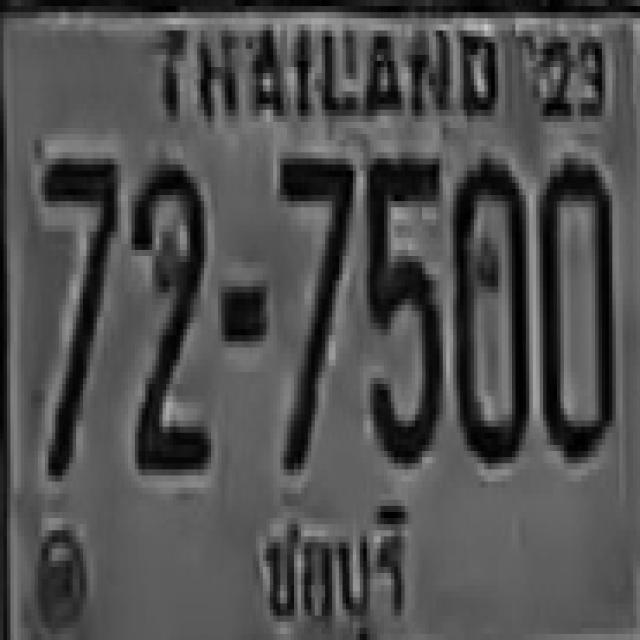0: (450, 152, 526, 458), (536, 152, 612, 458)
2: (130, 156, 206, 467)
5: (364, 150, 439, 460)
7: (40, 152, 116, 476), (277, 153, 353, 470)
Chonburi: (249, 488, 404, 638)
